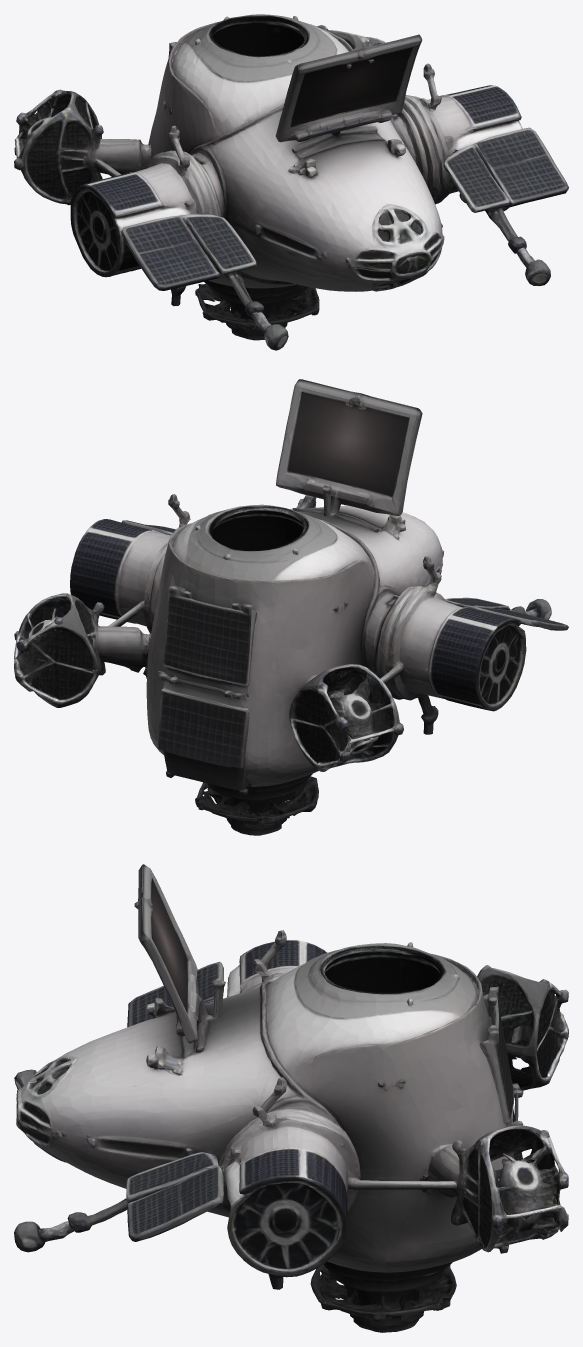
Rendered from sat_telescope.glb.
3 renders of one model, top to bottom at view 1: azimuth 30°, elevation 25°; view 2: azimuth 150°, elevation 25°; view 3: azimuth 270°, elevation 25°, orthographic. The views are drawn at different scales.
Parts seen in each view (by area): view 1: world; view 2: world; view 3: world.
Boxes of the visible parts, bbox=[...] form: world: bbox=[14, 14, 568, 350]; world: bbox=[14, 379, 568, 835]; world: bbox=[14, 864, 568, 1332].
Size of the model in its own units: 0.9989 by 0.8266 by 0.9757.
1 material, 1 textured.
